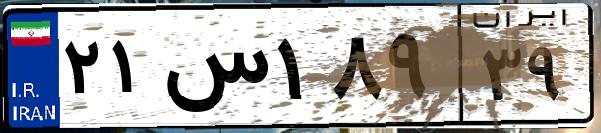1: (270, 28, 330, 110), (110, 28, 158, 98)
2: (57, 26, 110, 100)
3: (475, 38, 525, 113)
8: (330, 28, 385, 110)
9: (385, 28, 445, 110), (525, 38, 570, 115)
س: (158, 20, 270, 120)
